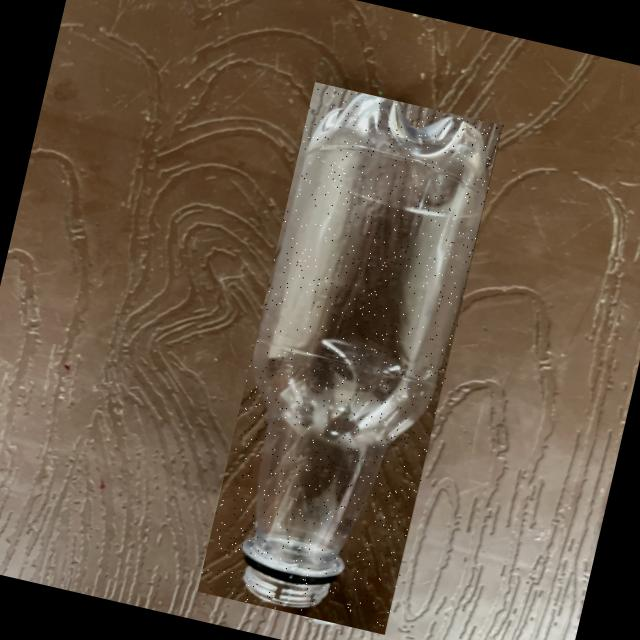PET_With_Cap: (197, 82, 504, 635)
